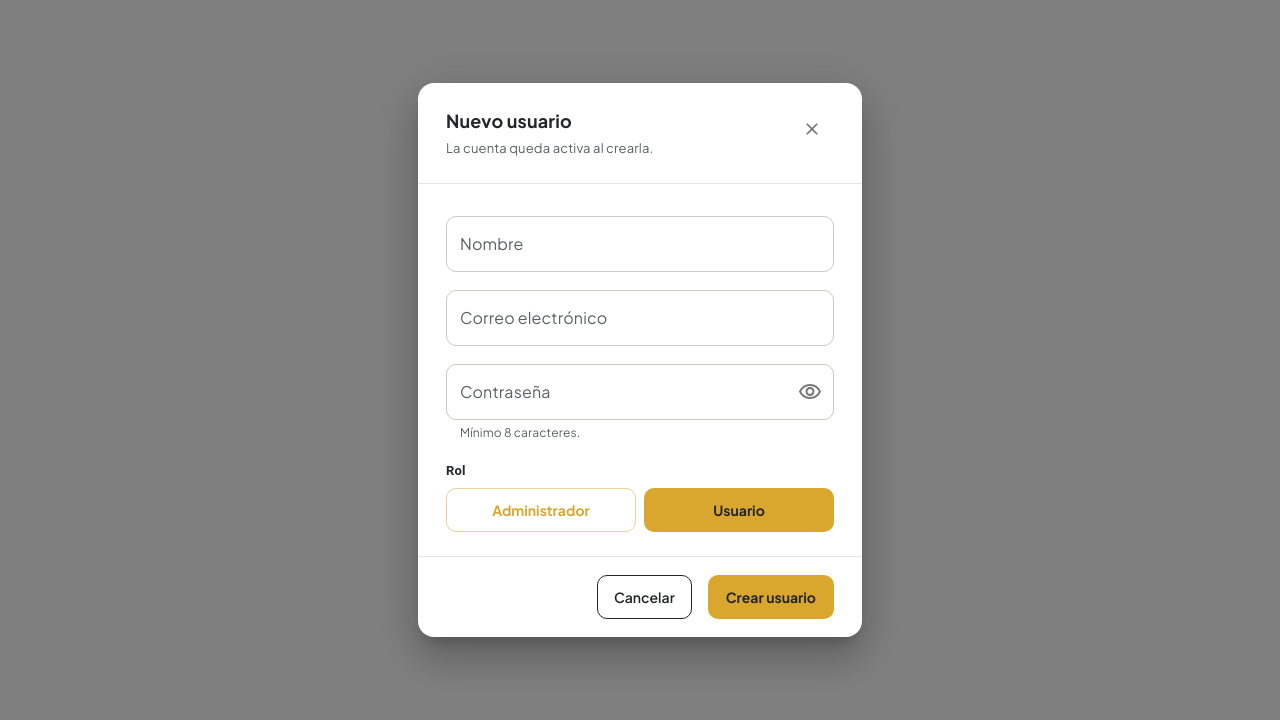
Test: UserFormDialog › creates a USER by default with the trimmed, lowercased email
Type " Ana " into the field labelled "Nombre". click: (640, 244)
box: [446,216,834,272]
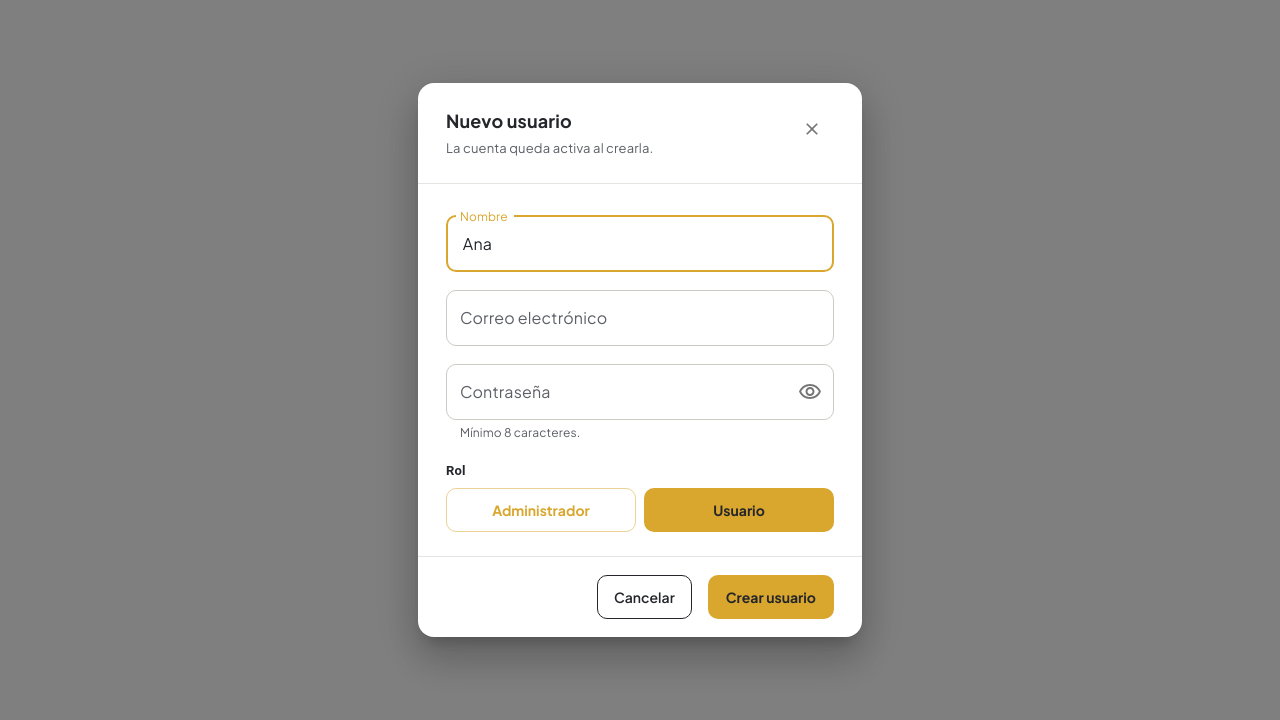
Type " Ana@Example.COM " into the field labelled "Correo electrónico". click: (640, 318)
box: [446,290,834,346]
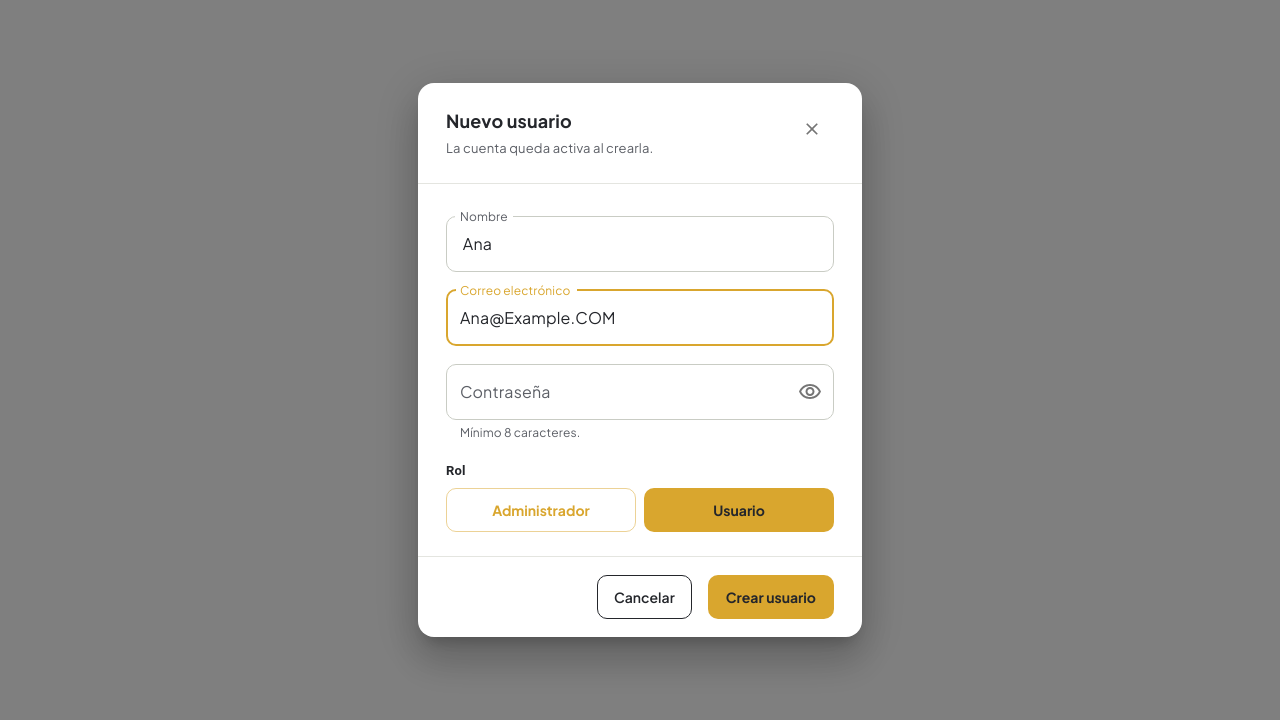
Type "12345678" into the password field labelled "Contraseña". click: (613, 392)
box: [446,364,780,420]
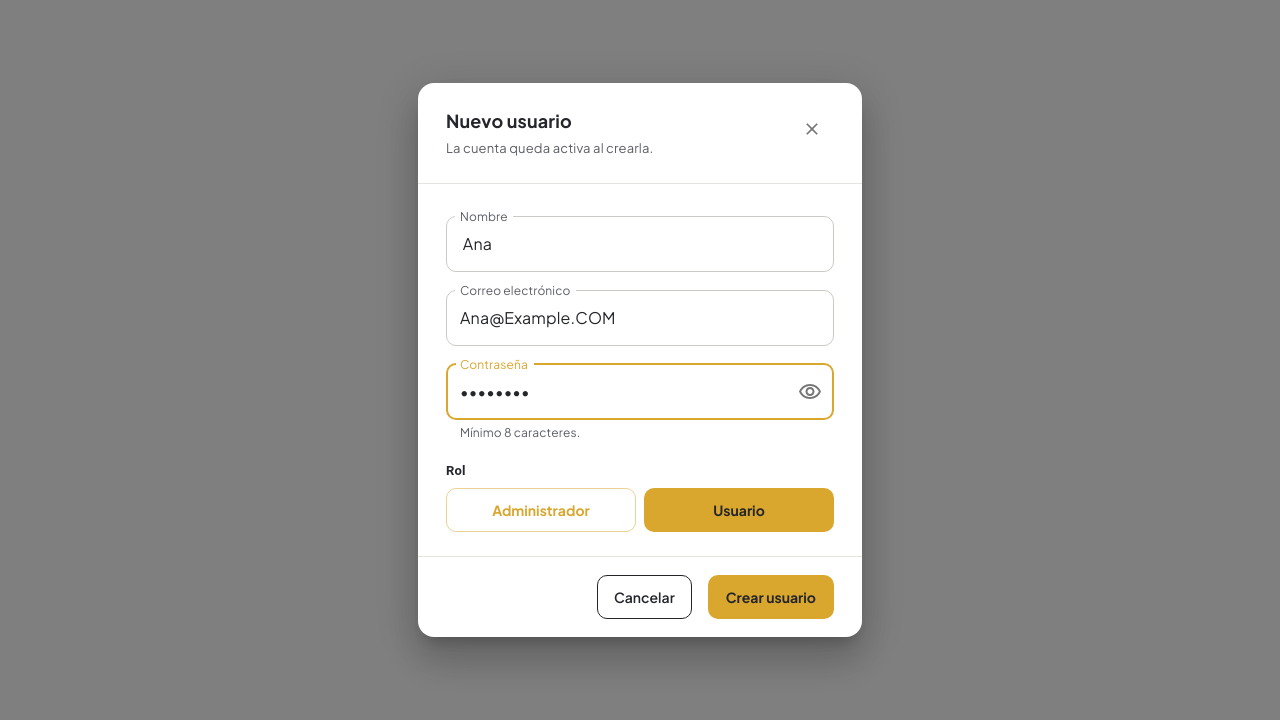
Click the button "Crear usuario". click: (771, 597)
box: [708,575,834,619]
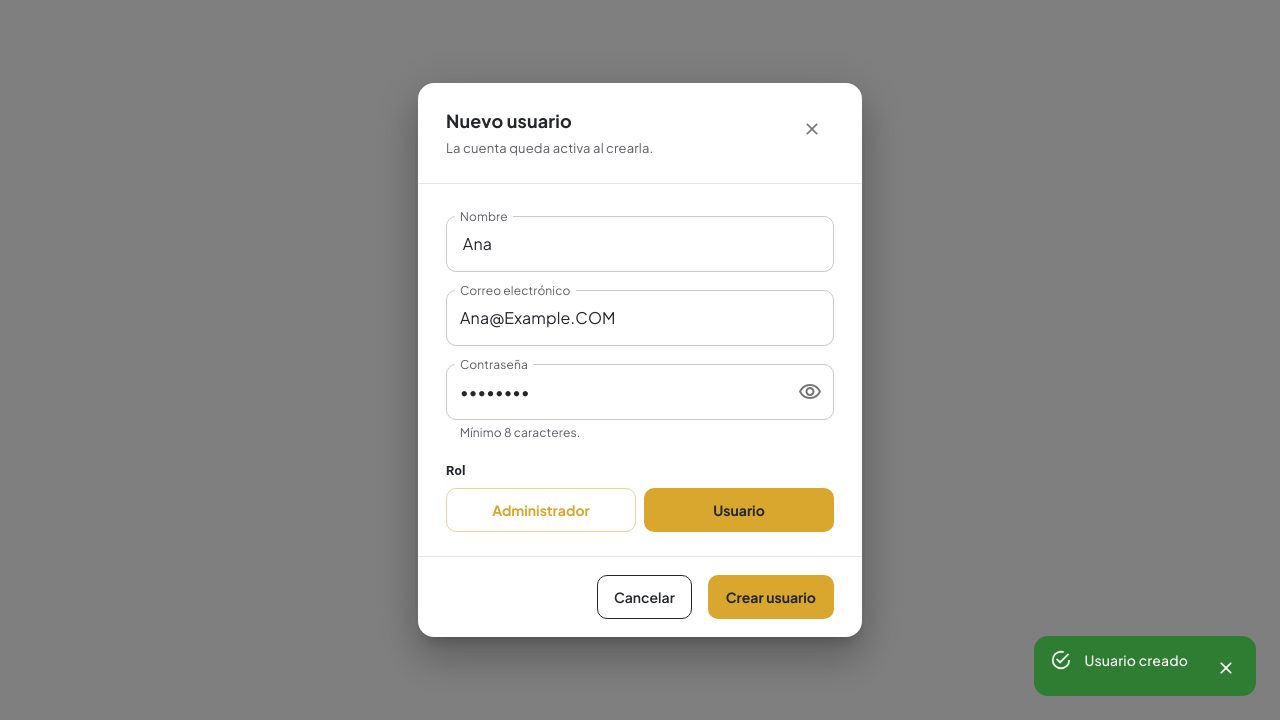
Now the text "Usuario creado" is shown, box [1084,651,1188,669]
